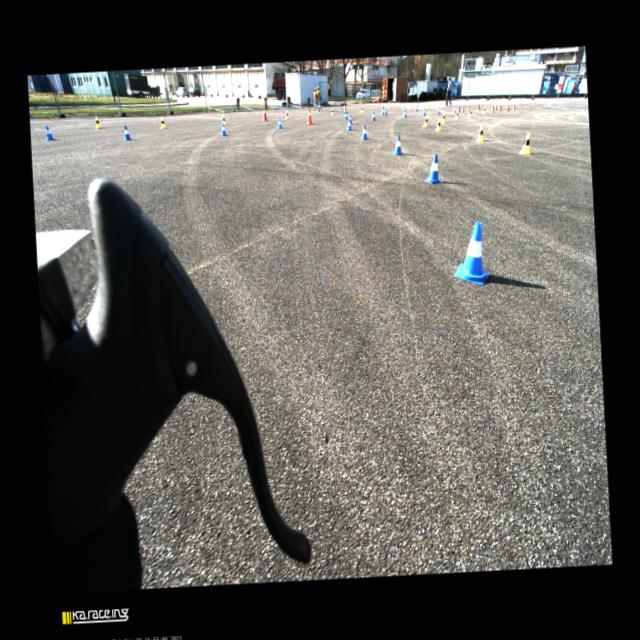blue_cone: (452, 222, 490, 286), (422, 154, 442, 184), (392, 134, 404, 155), (45, 126, 56, 140), (359, 125, 368, 140), (124, 126, 132, 140), (220, 124, 228, 136), (276, 118, 282, 129), (347, 120, 352, 130), (403, 110, 408, 118), (422, 108, 427, 116), (372, 112, 376, 121), (348, 115, 352, 124), (344, 112, 348, 120), (384, 108, 388, 116), (436, 107, 440, 114), (402, 106, 406, 113), (381, 108, 384, 115), (415, 105, 418, 111), (454, 106, 456, 113)
large_orange_cone: (306, 108, 314, 125), (262, 106, 268, 122)
orange_cone: (506, 105, 510, 112), (491, 105, 494, 114), (476, 104, 480, 110), (494, 104, 498, 110), (498, 106, 502, 112), (461, 105, 464, 112), (512, 104, 515, 110), (458, 105, 460, 113), (468, 105, 470, 111)
yellow_cone: (518, 132, 530, 154), (475, 125, 484, 142), (94, 116, 102, 130), (434, 119, 442, 131), (160, 117, 167, 128), (222, 115, 227, 125), (423, 116, 428, 126), (441, 114, 446, 124), (481, 106, 486, 114), (285, 111, 289, 119), (454, 112, 458, 120), (468, 110, 472, 118), (331, 107, 334, 115), (362, 106, 364, 113), (360, 106, 362, 112), (382, 106, 384, 110)
